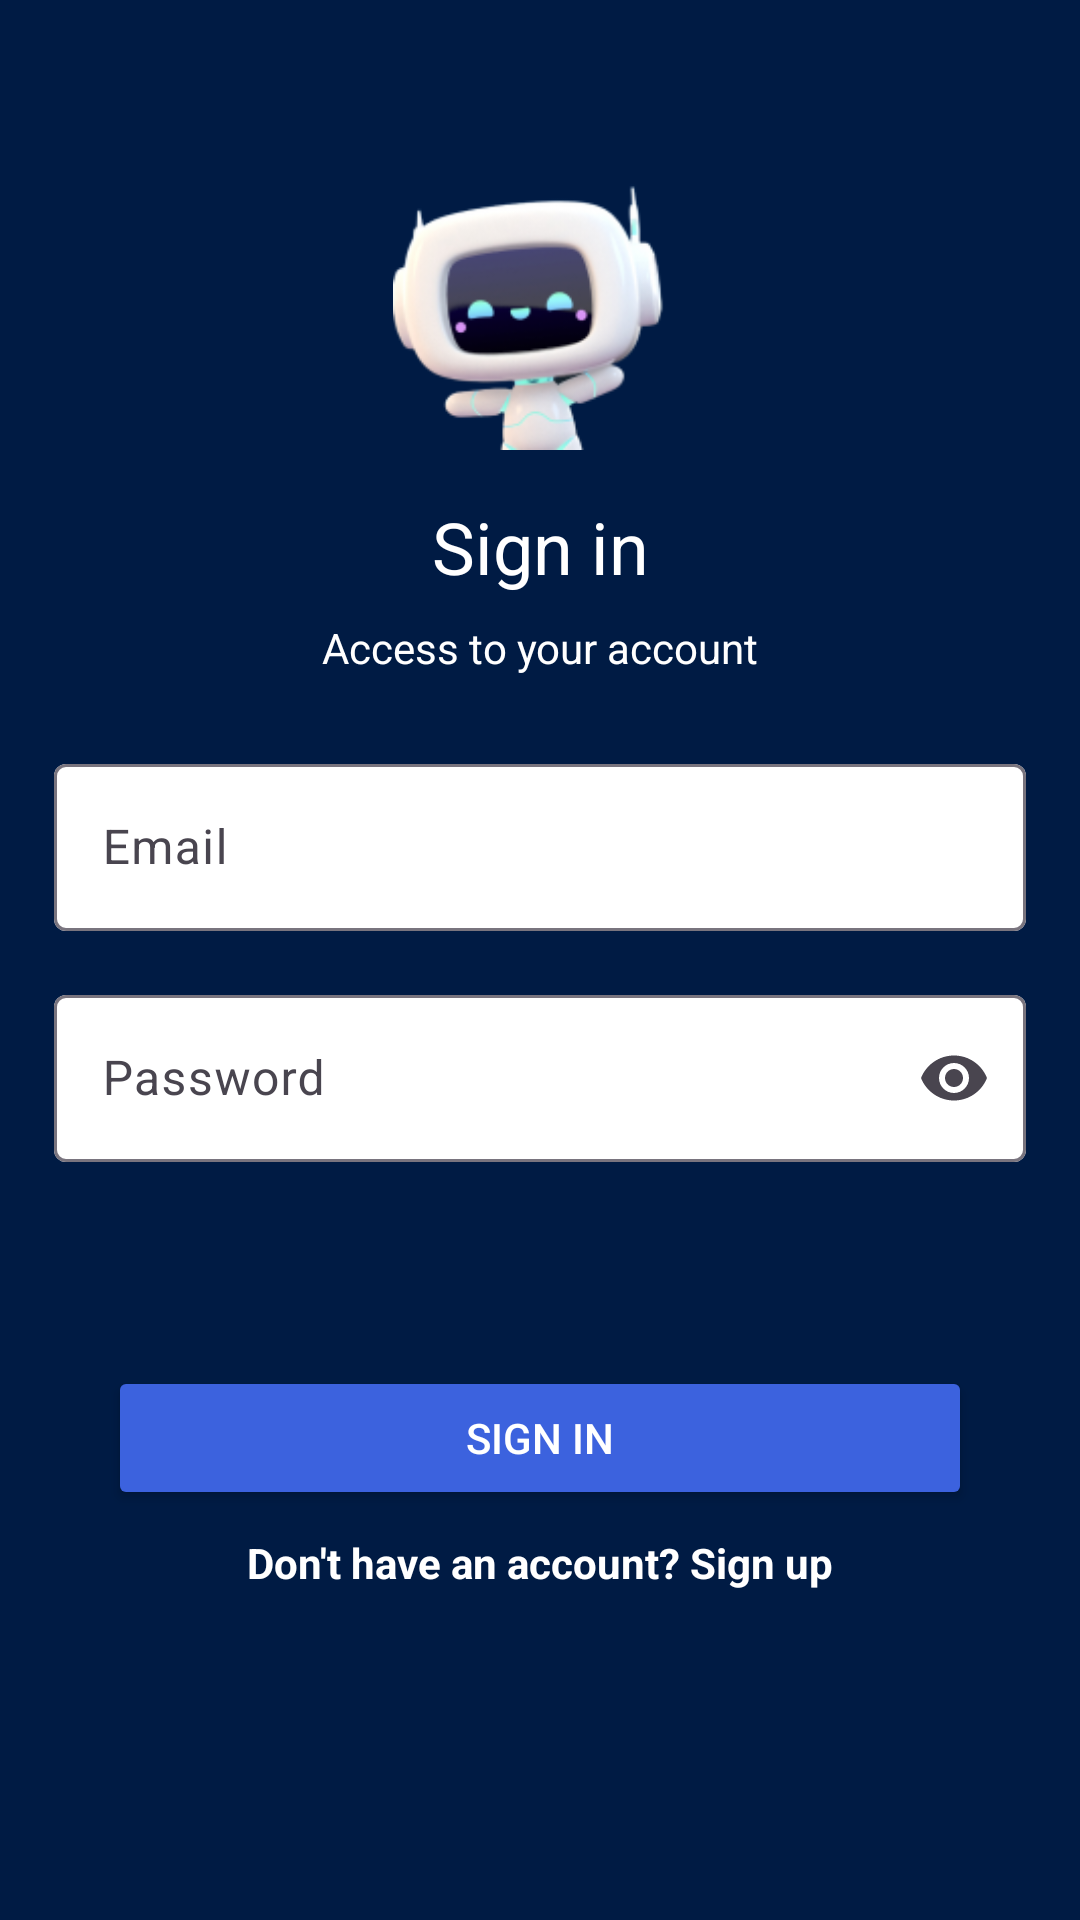

Screen size 1080x1920. Icon name, then its box in pixels as (x1, y1, x2, y2):
robo: (393, 186, 663, 450)
